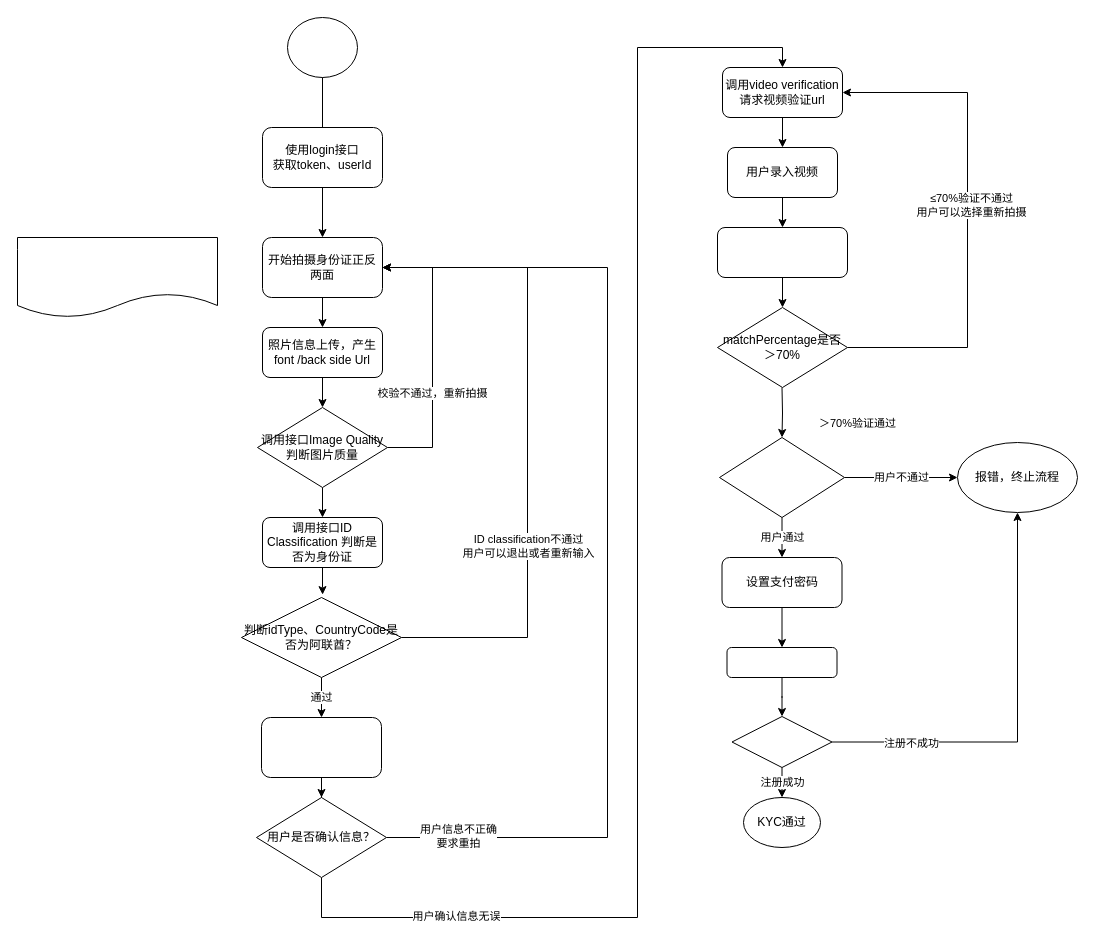
Some shapes in this 1095 by 943 pixel diagram are drawn without their labels. Here are the shapes that lost their labels. From the top down, the centre of each, then its label:
(322,47): 完成/跳过 邀请码流程
(782,252): 调用video verification inquiry接口，获得活动参数 matchPercentage
(117,277): 身份证正反两面上传地址: https://sandbox-preproduction.signzy.tech/foreignId-classification
(781,477): AML black list screening
(781,662): 向FAB申请
(321,747): 调用EID Extraction 提取信息、展示页面（name、DoB等）
(781,742): FAB注册成功
